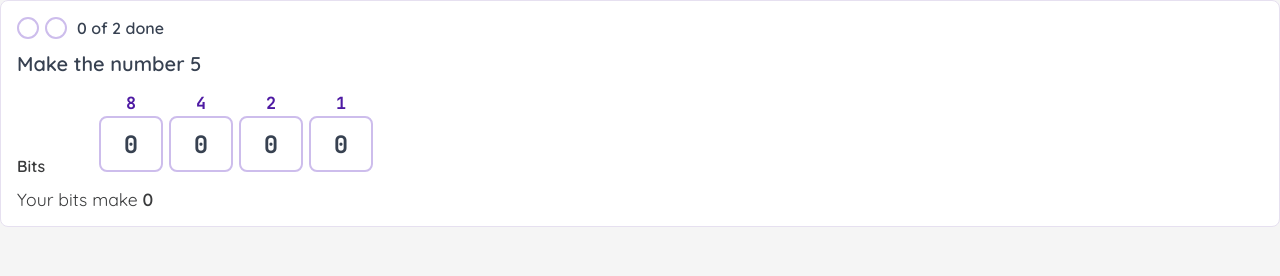
Scenario: Binary UI › toggles bit tiles as switches with place values and a live decimal
Expected: the text "8" is shown, top-left (126, 92), bottom-right (136, 114)
Expected: the text "Make the number 5" is shown, top-left (17, 51), bottom-right (201, 76)
Click the switch named "Bits 4 column" at coordinates (201, 144), box top-left (169, 116), bottom-right (233, 172)
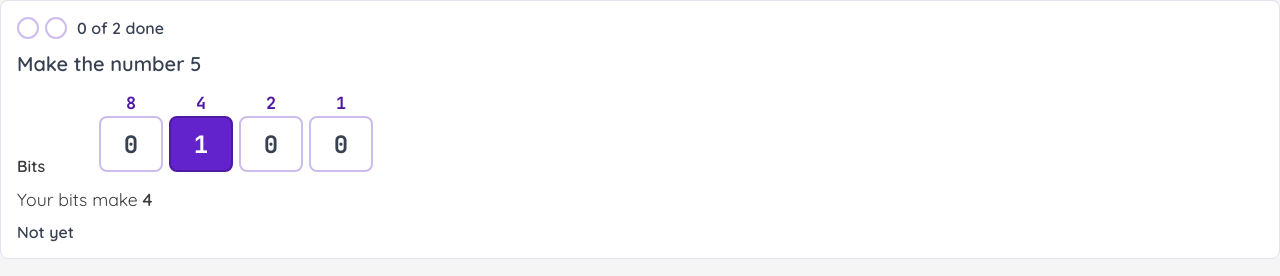
Click the switch named "Bits 1 column" at coordinates (341, 144), box top-left (309, 116), bottom-right (373, 172)
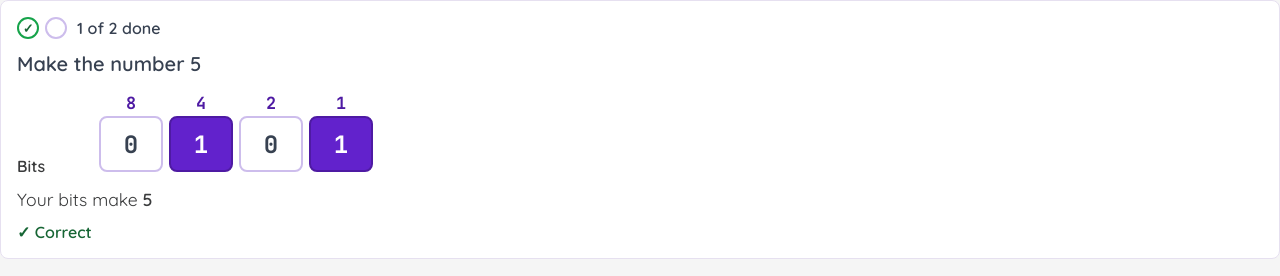
Expected: the text with test id "live-decimal" reads "5", top-left (143, 188), bottom-right (153, 210)
